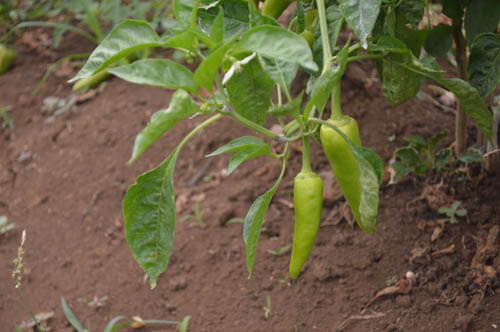ChiliPepper: (325, 123, 377, 227), (288, 175, 322, 279)
